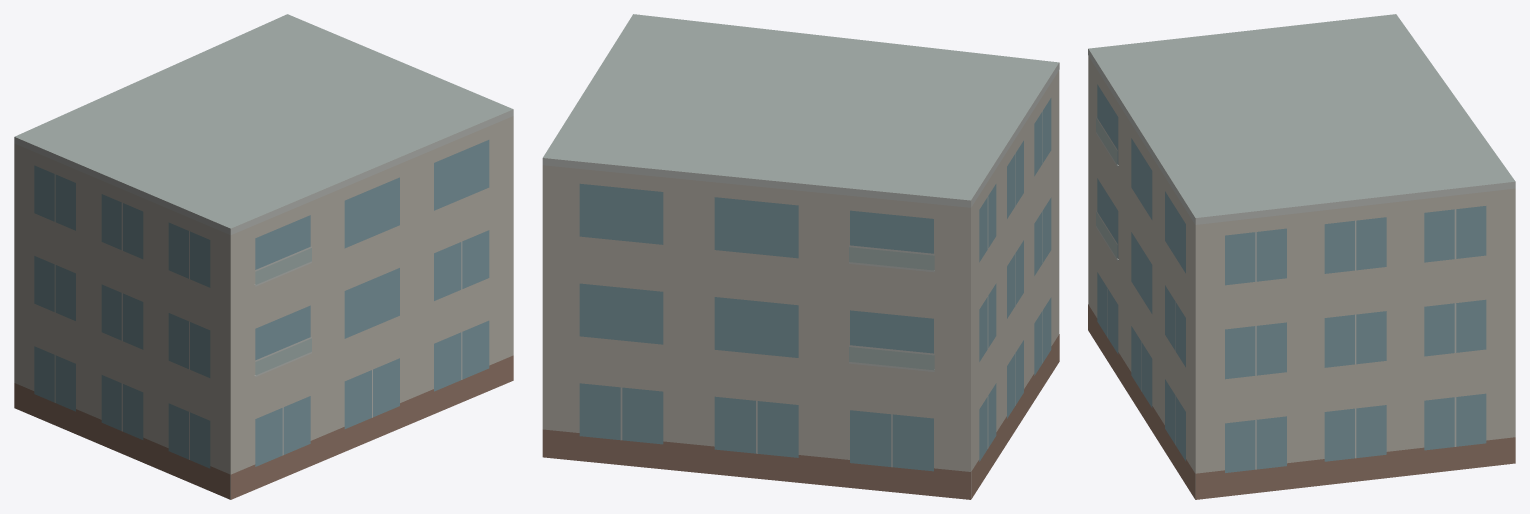
Rendered from survey-upis-32677448.glb.
The picture shows the model from 3 angles, left to right: view 1: azimuth 30°, elevation 25°; view 2: azimuth 150°, elevation 25°; view 3: azimuth 270°, elevation 25°; orthographic projection. The views are drawn at different scales.
Visible parts, largest first — view 1: survey-upis-32677448.tmp; view 2: survey-upis-32677448.tmp; view 3: survey-upis-32677448.tmp.
Part boxes in pixels (x1,y1,x2,y2): survey-upis-32677448.tmp: (14, 14, 513, 499); survey-upis-32677448.tmp: (542, 14, 1059, 499); survey-upis-32677448.tmp: (1088, 14, 1515, 499).
Size of the model in its own units: 15.55 by 10 by 13.76.
